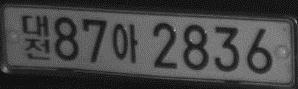2: (152, 22, 178, 69)
3: (214, 25, 240, 72)
6: (246, 28, 273, 74)
7: (82, 17, 107, 63)
8: (183, 23, 209, 70), (53, 16, 79, 61)
대전_V: (21, 14, 51, 61)
아: (112, 22, 138, 63)
